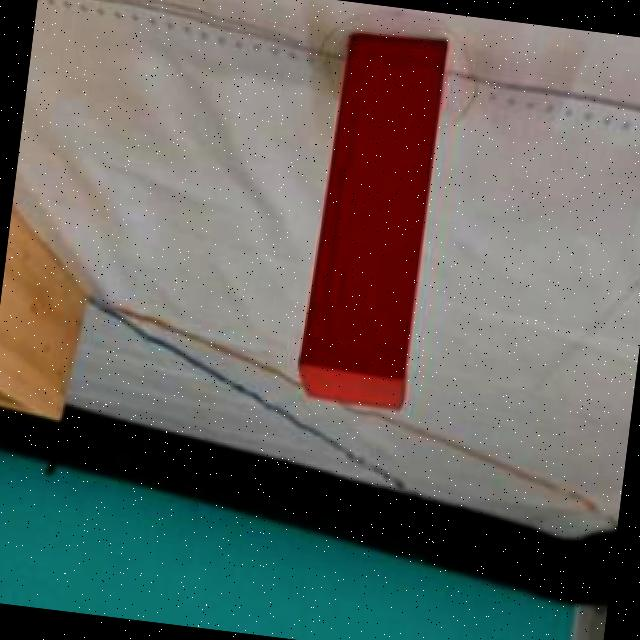redbox: (297, 26, 452, 417)
